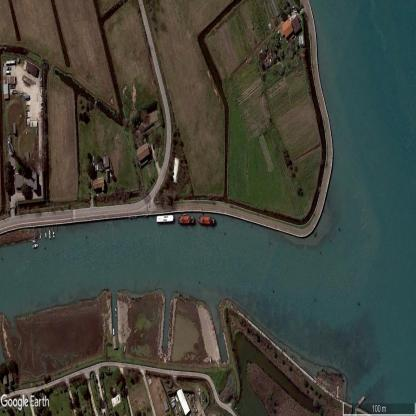ship: (198, 216, 215, 226), (177, 216, 194, 224), (156, 215, 174, 222), (39, 232, 43, 239), (32, 244, 38, 248), (48, 229, 50, 239), (115, 307, 117, 317), (113, 328, 115, 336), (45, 231, 47, 238), (53, 231, 54, 238)
